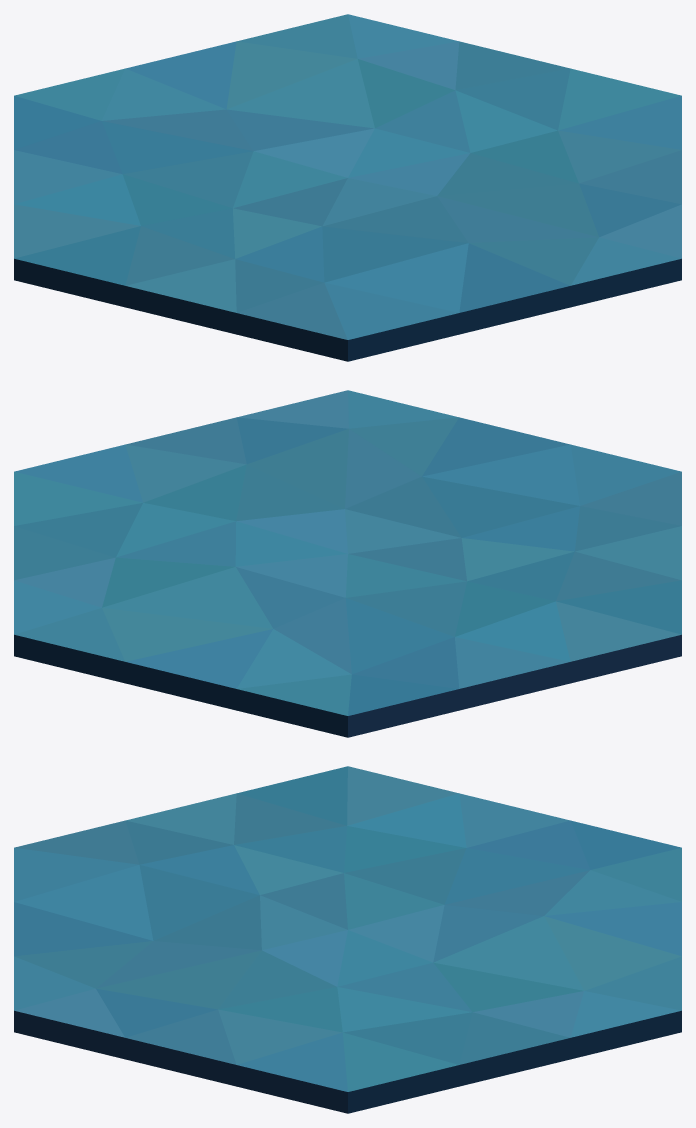
Rendered from Coast.glb.
3 renders of one model, top to bottom at view 1: azimuth 30°, elevation 25°; view 2: azimuth 150°, elevation 25°; view 3: azimuth 270°, elevation 25°, orthographic.
Parts seen in each view (by area): view 1: Coast; view 2: Coast; view 3: Coast.
Boxes of the visible parts, left/top/right/bottom form: Coast: left=14, top=14, right=681, bottom=361; Coast: left=14, top=390, right=681, bottom=737; Coast: left=14, top=766, right=681, bottom=1113.
Size of the model in its own units: 1.94 by 0.0658 by 1.68.
